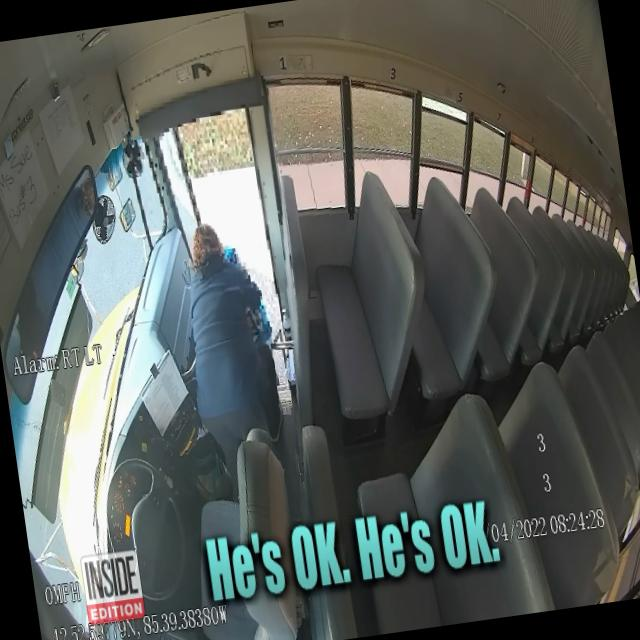bus-door: (160, 130, 200, 248)
